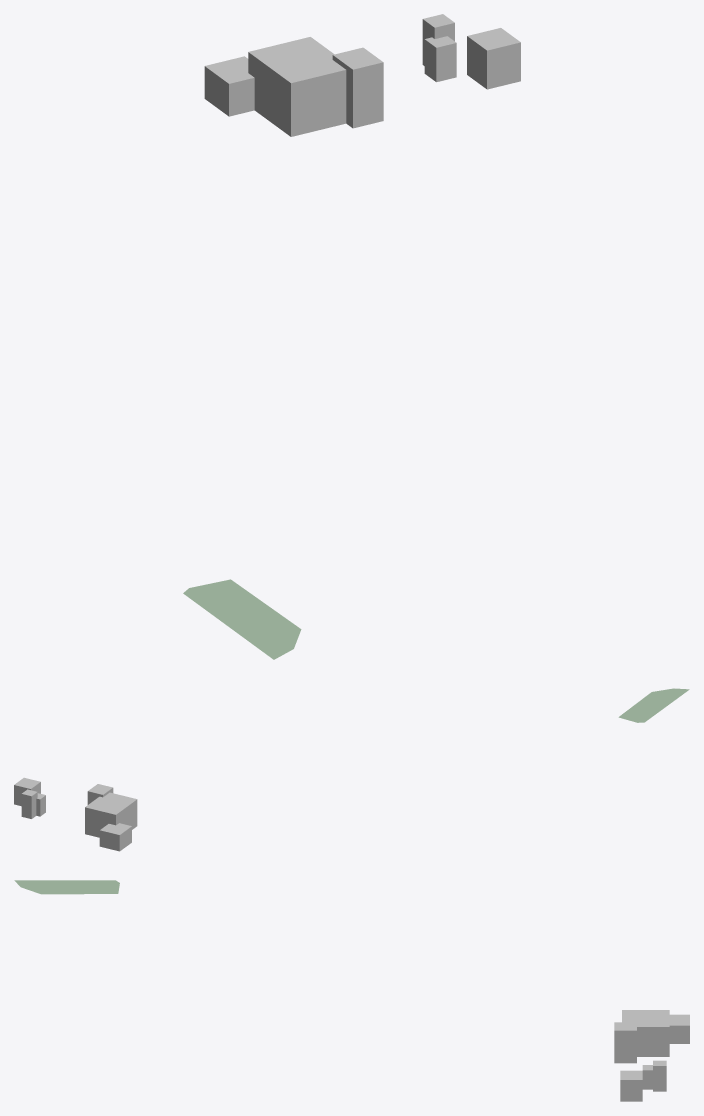
Rendered from 137_86_mid.glb.
3 views of the same model, one above another, from view 1: azimuth 30°, elevation 25°; view 2: azimuth 150°, elevation 25°; view 3: azimuth 270°, elevation 25° (orthographic). The views are drawn at different scales.
Bounding box in the file's own units: 333 × 23.7 × 442.
